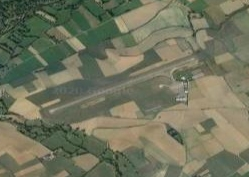airport: (48, 54, 199, 116)
